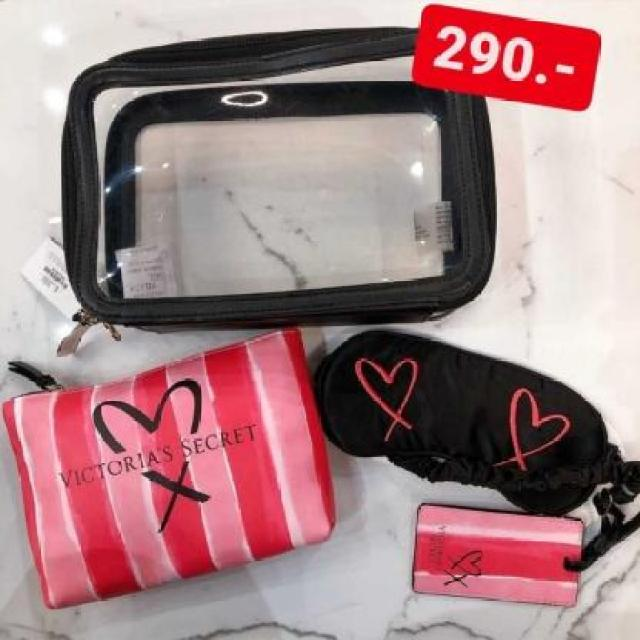Bag: (0, 13, 534, 344), (0, 318, 360, 616)
